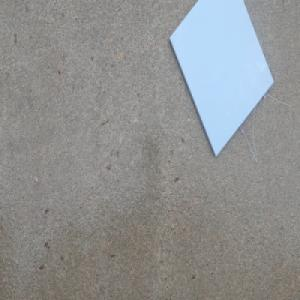PaintChip: (169, 0, 275, 157)
